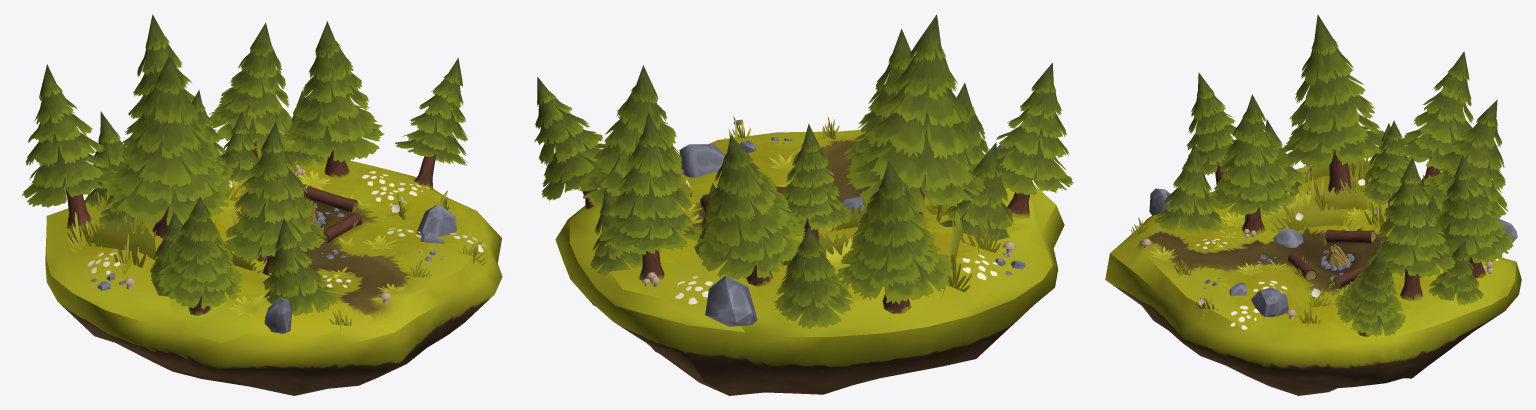
3 views of the same model, side by side, from view 1: azimuth 30°, elevation 25°; view 2: azimuth 150°, elevation 25°; view 3: azimuth 270°, elevation 25° (orthographic). The views are drawn at different scales.
Visible parts, largest first — view 1: Forest; view 2: Forest; view 3: Forest.
Boxes of the visible parts, <box> form: Forest: <box>21,14,502,395</box>; Forest: <box>534,14,1073,395</box>; Forest: <box>1105,14,1521,395</box>.
Bounding box in the file's own units: 15.19 × 11.44 × 14.62.
4 materials, 4 textured.
